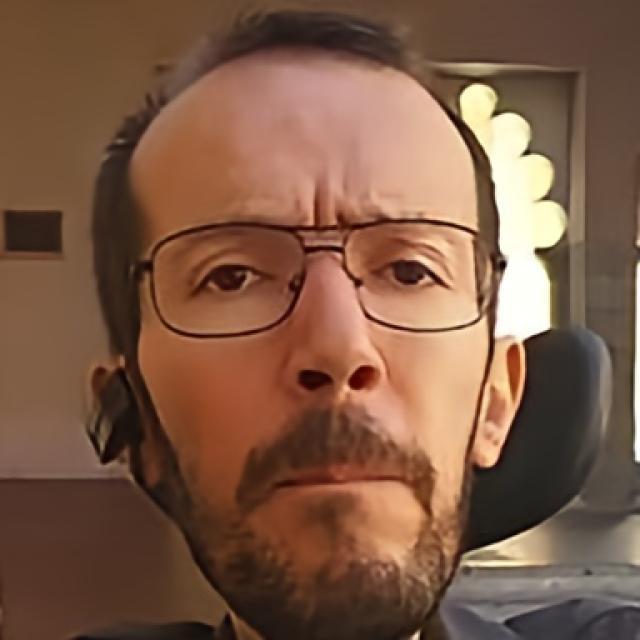anger: (138, 80, 487, 618)
